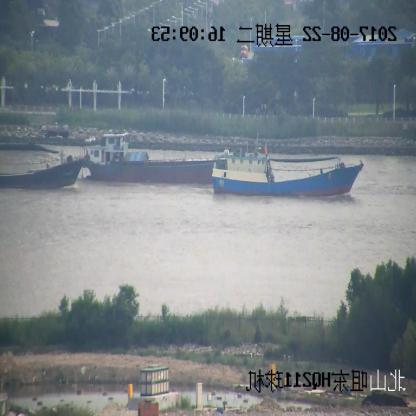Fishing Boat: (210, 143, 363, 198), (0, 141, 85, 190)
